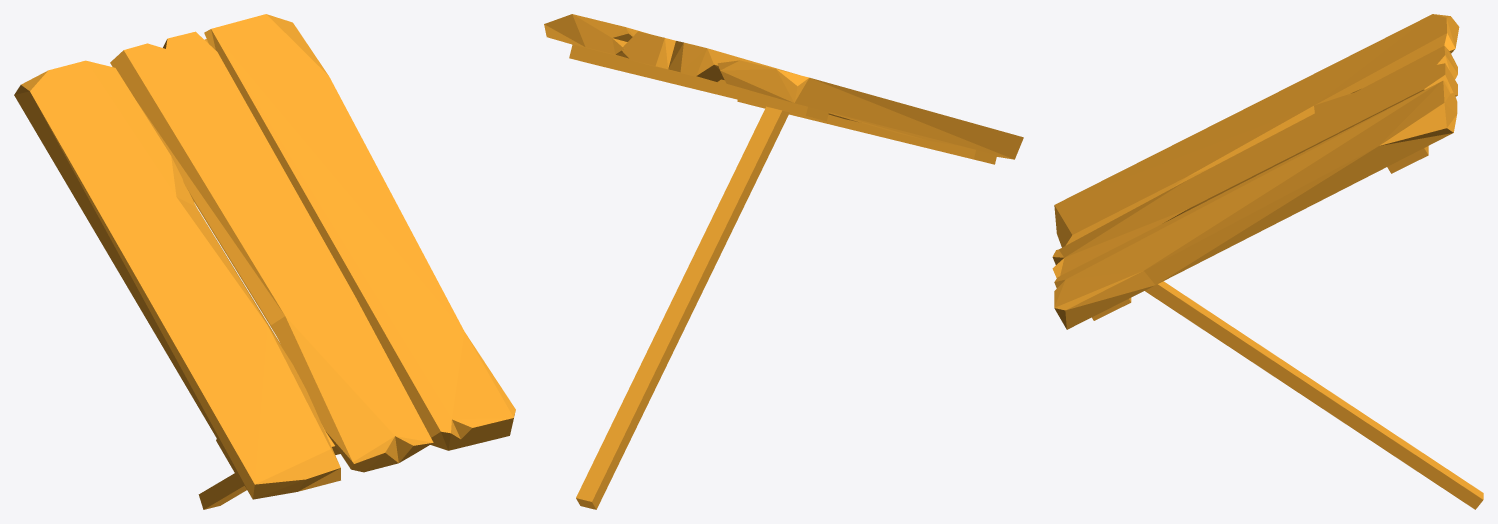
Rendered from SM_Window_Wood_Small_Shutter_Fantasy.fbx.
The picture shows the model from 3 angles, left to right: view 1: azimuth 30°, elevation 25°; view 2: azimuth 150°, elevation 25°; view 3: azimuth 270°, elevation 25°; orthographic projection. The views are drawn at different scales.
Parts seen in each view (by area): view 1: SM_Window_Wood_Small_Shutter_Fantasy; view 2: SM_Window_Wood_Small_Shutter_Fantasy; view 3: SM_Window_Wood_Small_Shutter_Fantasy.
Boxes of the visible parts, x1,y1,x2,y2 form: SM_Window_Wood_Small_Shutter_Fantasy: (14, 14, 515, 509); SM_Window_Wood_Small_Shutter_Fantasy: (544, 14, 1023, 509); SM_Window_Wood_Small_Shutter_Fantasy: (1052, 14, 1483, 509).
Size of the model in its own units: 0.985 by 1.72 by 1.61.
